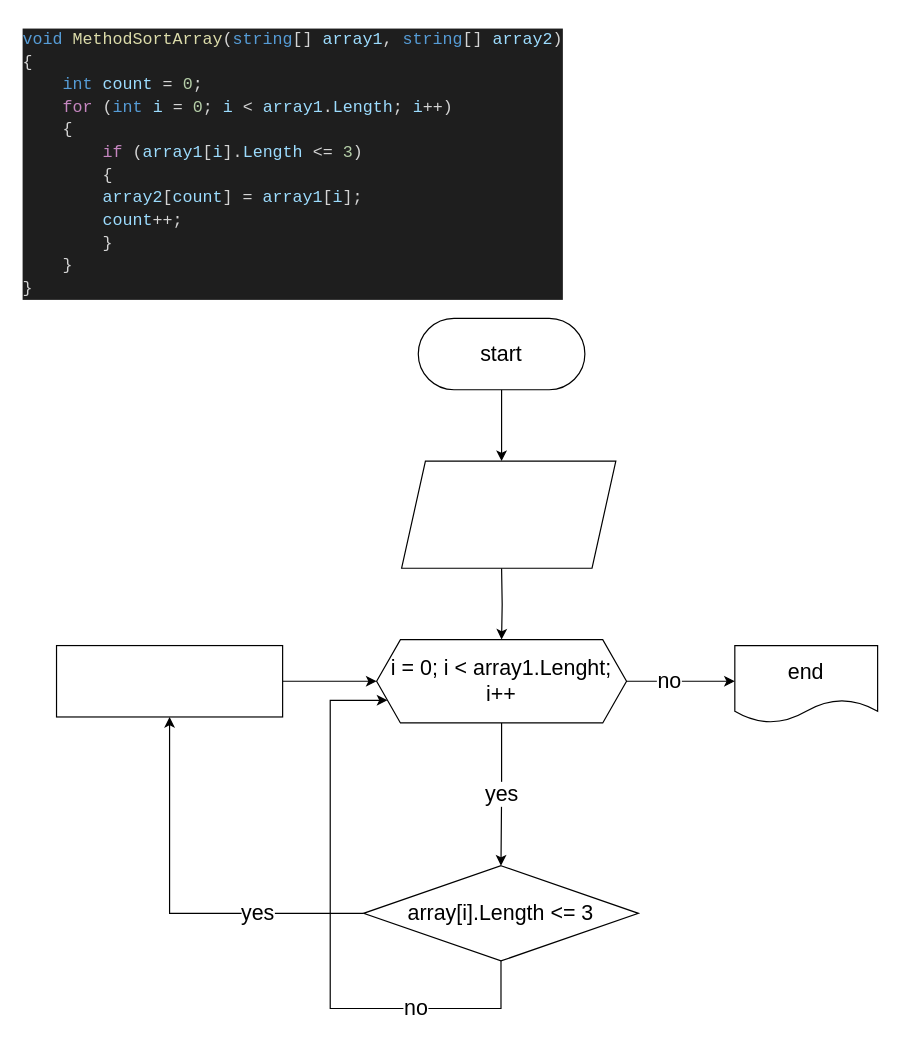
The diagram is 898 pixels wide and 1041 high, and some of its shapes have lost their labels. Here are the shapes that lost their labels. From the top down, the centre of each, then its label:
At point 508,514: "string[] array1 string[] array2 count = 0".
At point 169,680: "array2[count] = array[i]; count++".
